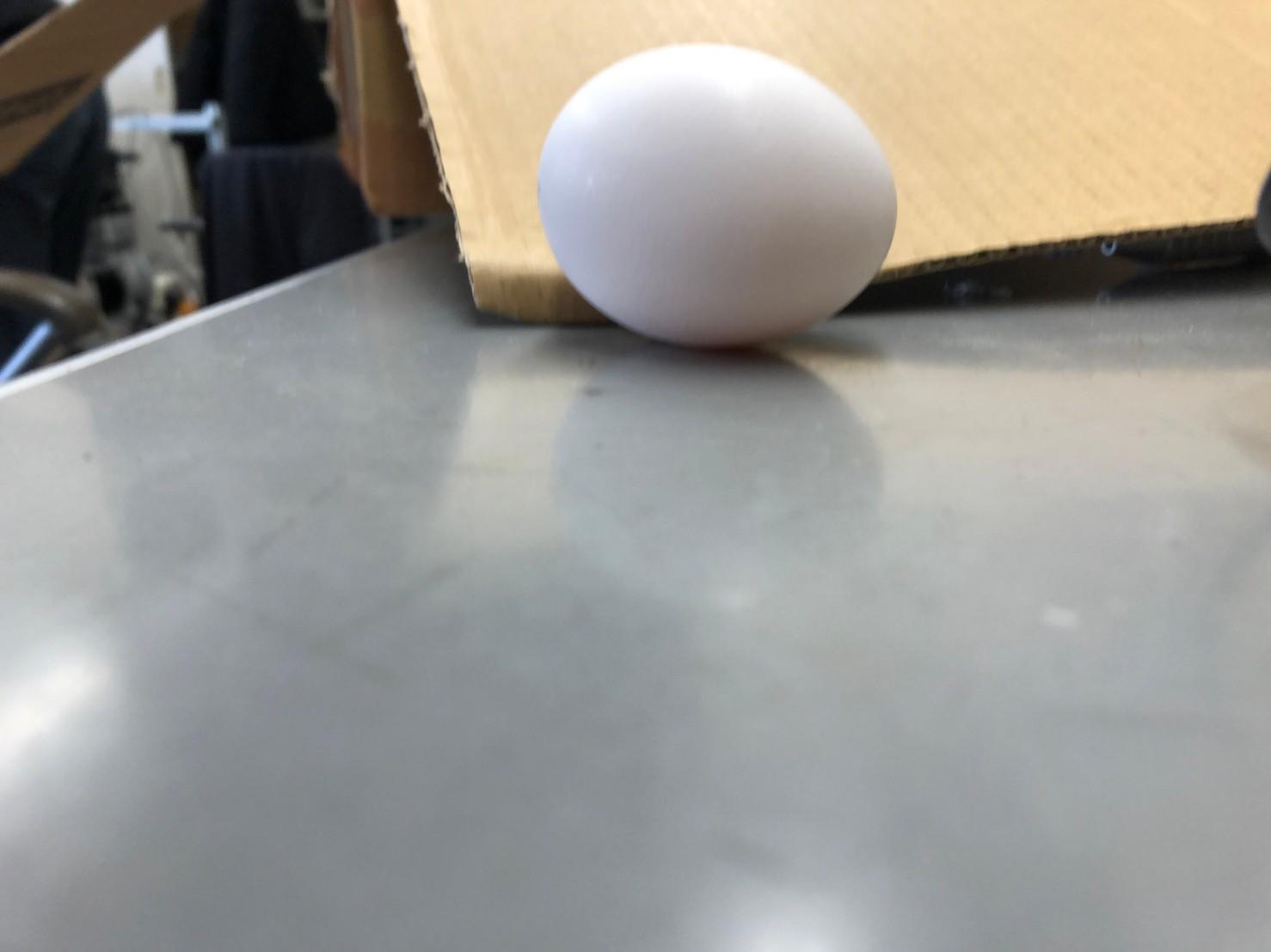egg: (533, 40, 900, 350)
